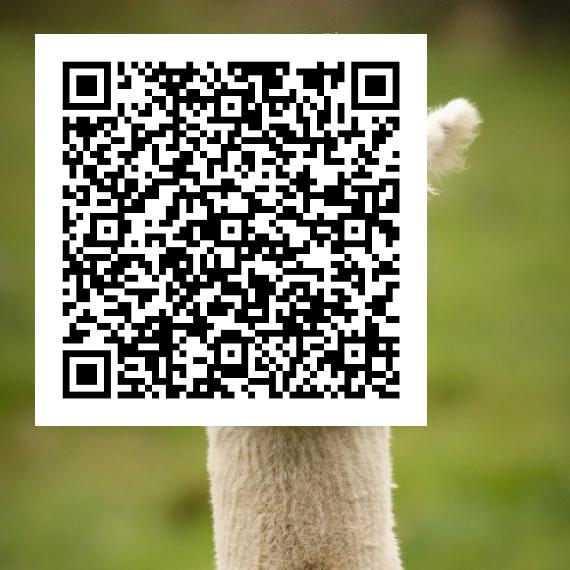qr_code: (35, 34, 426, 425)
